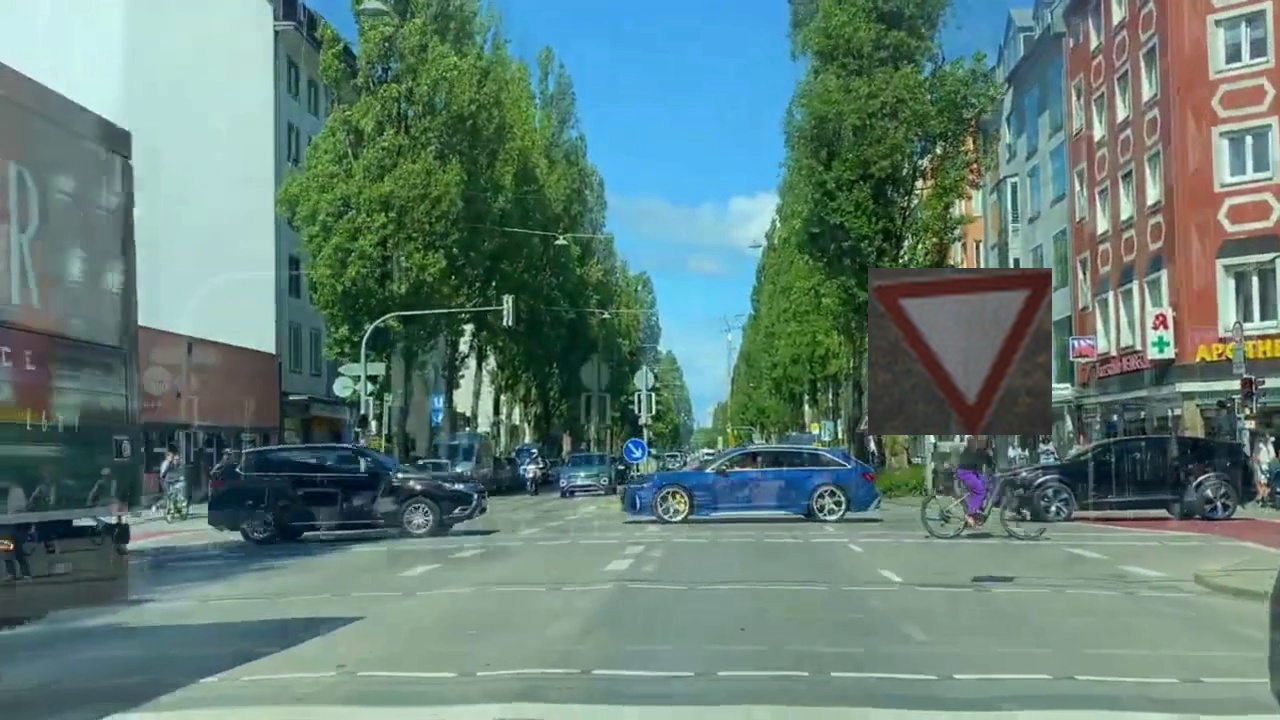Yield: (868, 268, 1052, 435)
